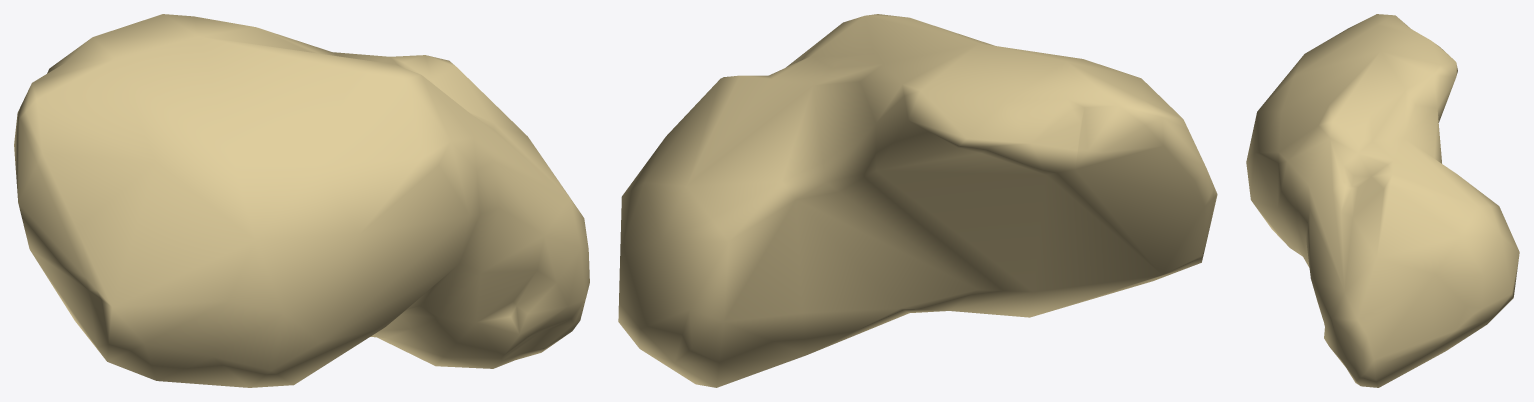
3 views of the same model, side by side, from view 1: azimuth 30°, elevation 25°; view 2: azimuth 150°, elevation 25°; view 3: azimuth 270°, elevation 25° (orthographic). The views are drawn at different scales.
Visible parts, largest first — view 1: 左侧手舟骨; view 2: 左侧手舟骨; view 3: 左侧手舟骨.
Boxes of the visible parts, x1=… form: 左侧手舟骨: x1=14, y1=14, x2=589, y2=387; 左侧手舟骨: x1=618, y1=14, x2=1217, y2=387; 左侧手舟骨: x1=1246, y1=14, x2=1519, y2=387.
Bounding box in the file's own units: 0.0362 × 0.0234 × 0.0239.
